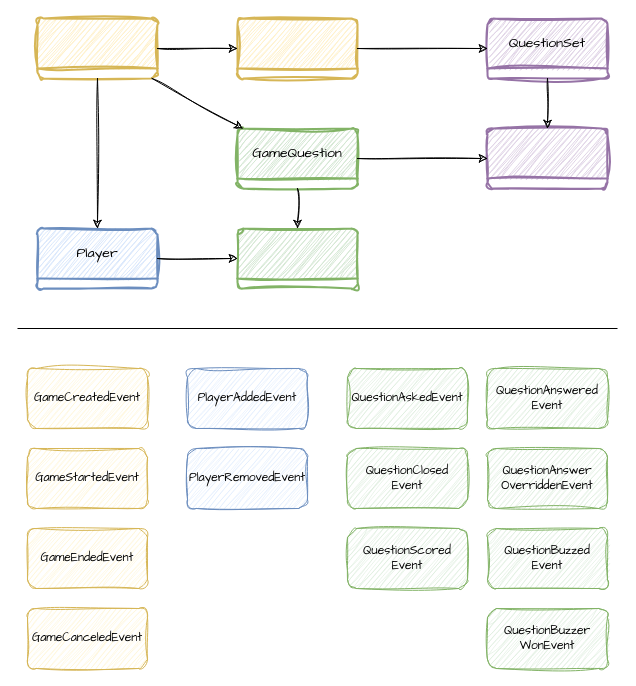
The diagram is 636 pixels wide and 686 high, and some of its shapes have lost their labels. Here are the shapes that lost their labels. From the top down, the centre of each, then its label:
At (x=97, y=48): "Game".
At (x=297, y=48): "GameConfig".
At (x=547, y=158): "Question".
At (x=297, y=258): "GameQuestion Answer".
